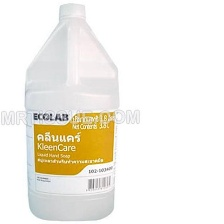cleaning_solution: (21, 0, 122, 224)
